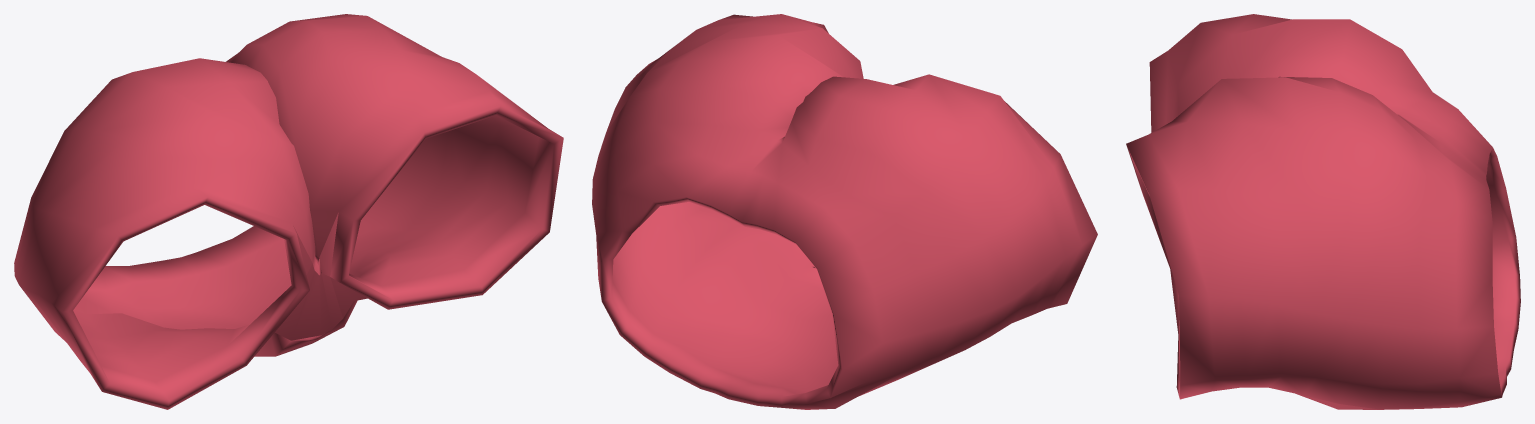
File: şort.fbx
3 renders of one model, left to right at view 1: azimuth 30°, elevation 25°; view 2: azimuth 150°, elevation 25°; view 3: azimuth 270°, elevation 25°, orthographic. The views are drawn at different scales.
Parts seen in each view (by area): view 1: Object001.001; view 2: Object001.001; view 3: Object001.001.
Boxes of the visible parts, <box> form: Object001.001: <box>14,14,563,409</box>; Object001.001: <box>592,14,1097,409</box>; Object001.001: <box>1126,14,1520,409</box>.
Bounding box in the file's own units: 507 × 315 × 333.
